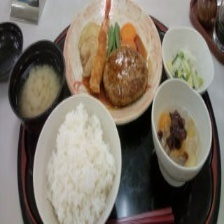rice: (41, 100, 118, 224)
